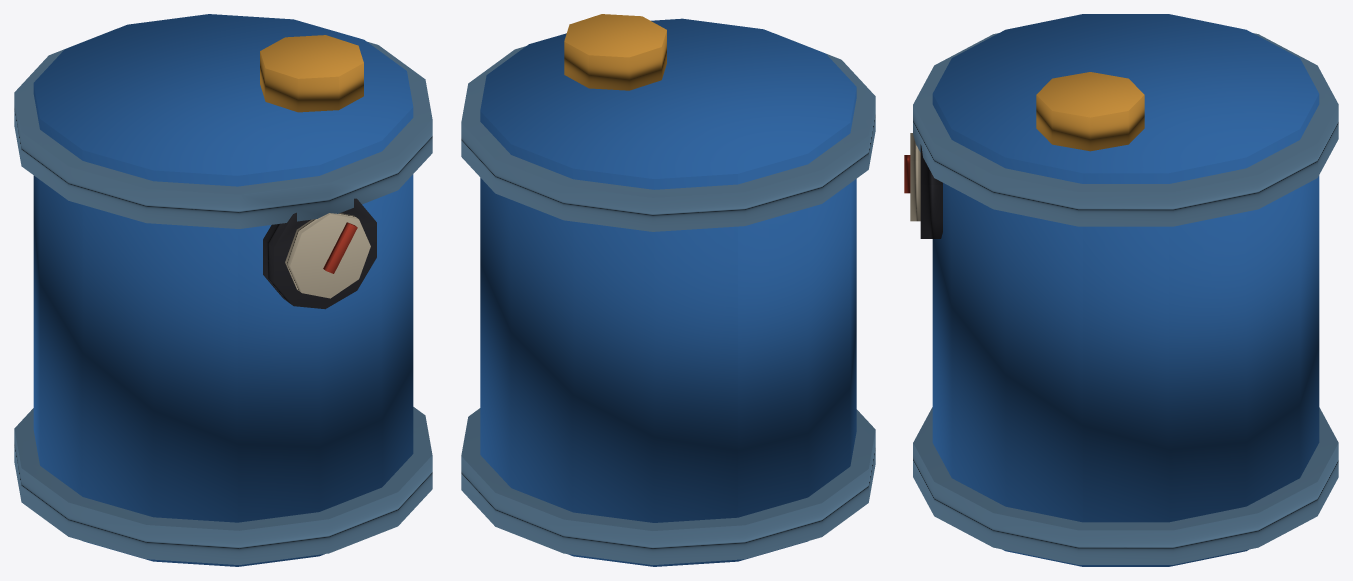
File: cargo_coolant.glb
The picture shows the model from 3 angles, left to right: view 1: azimuth 30°, elevation 25°; view 2: azimuth 150°, elevation 25°; view 3: azimuth 270°, elevation 25°; orthographic projection.
Visible parts, largest first — view 1: Blue coolant drum; view 2: Blue coolant drum; view 3: Blue coolant drum.
Boxes of the visible parts, bbox=[...] form: Blue coolant drum: bbox=[14, 14, 432, 566]; Blue coolant drum: bbox=[461, 14, 875, 566]; Blue coolant drum: bbox=[904, 14, 1338, 566].
Size of the model in its own units: 0.468 by 0.532 by 0.49.
